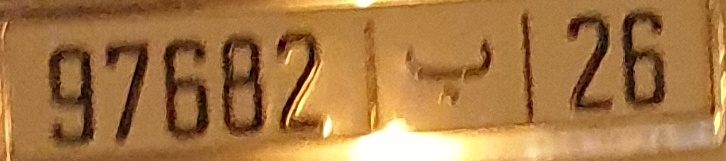2: (274, 31, 331, 137), (565, 10, 616, 114)
6: (163, 37, 211, 141), (622, 9, 668, 109)
7: (103, 40, 152, 146)
8: (220, 32, 265, 138)
9: (47, 42, 94, 149)
b: (404, 39, 499, 104)
